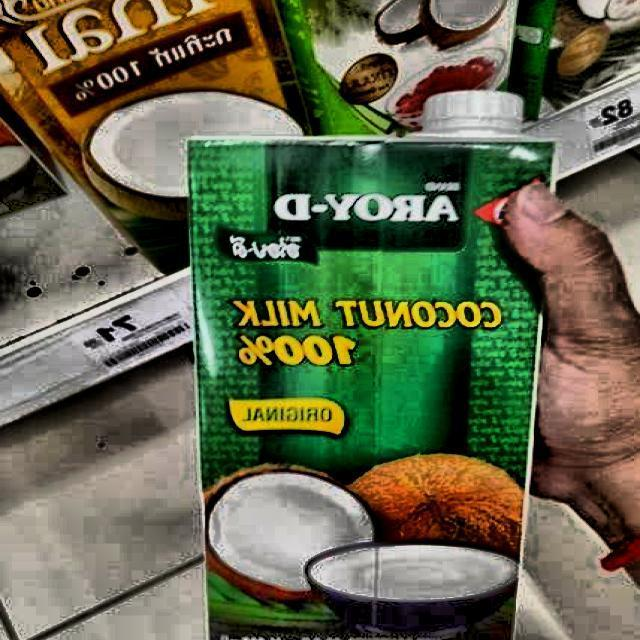cardboard: (186, 133, 555, 640)
